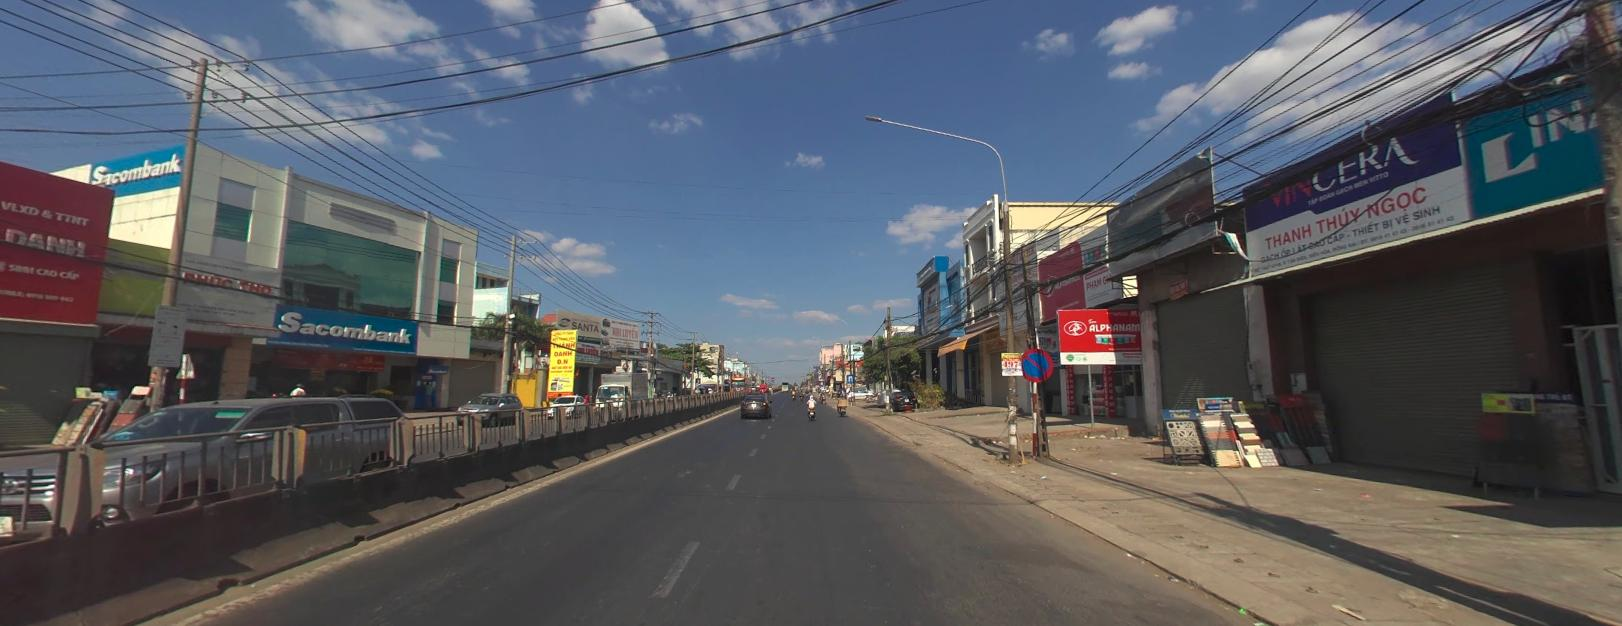Cam dung va do: (1020, 348, 1052, 380)
